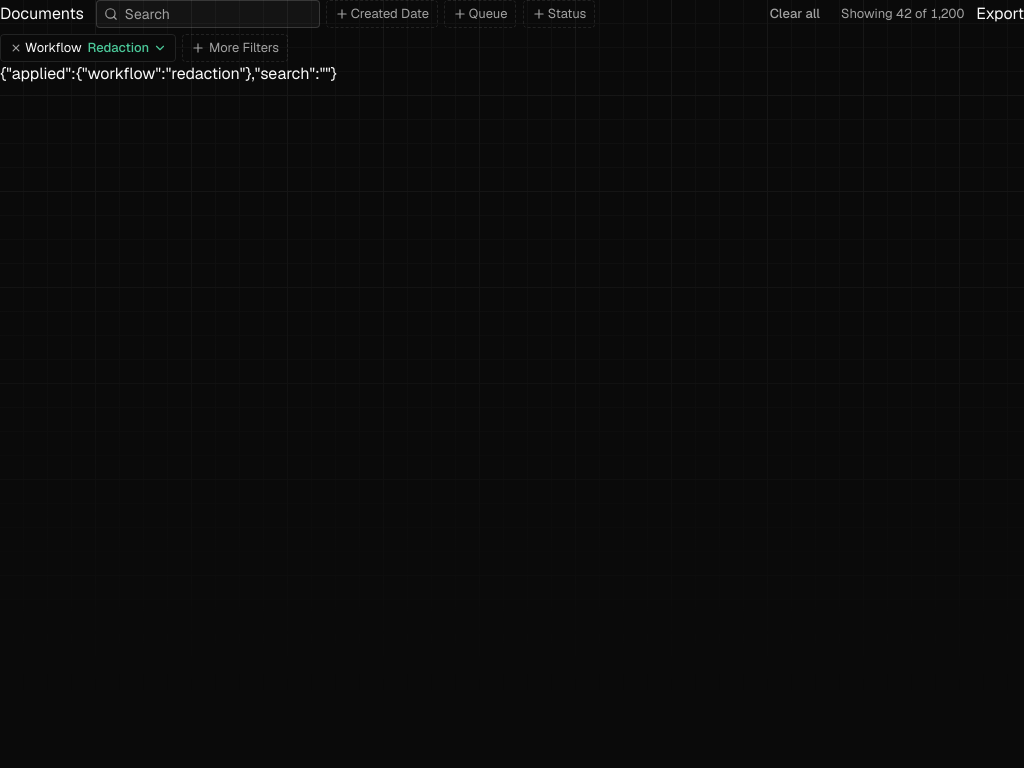
Test case: FilterBar layout (SPEC §4) › [T] more-tier filters render as chips only while applied
Expected: the button with aria-label "Workflow filter:" is shown, x1=25 y1=35 x2=175 y2=61
Click the button named "Remove Workflow filter" at (13, 48), box x1=1 y1=35 x2=25 y2=61
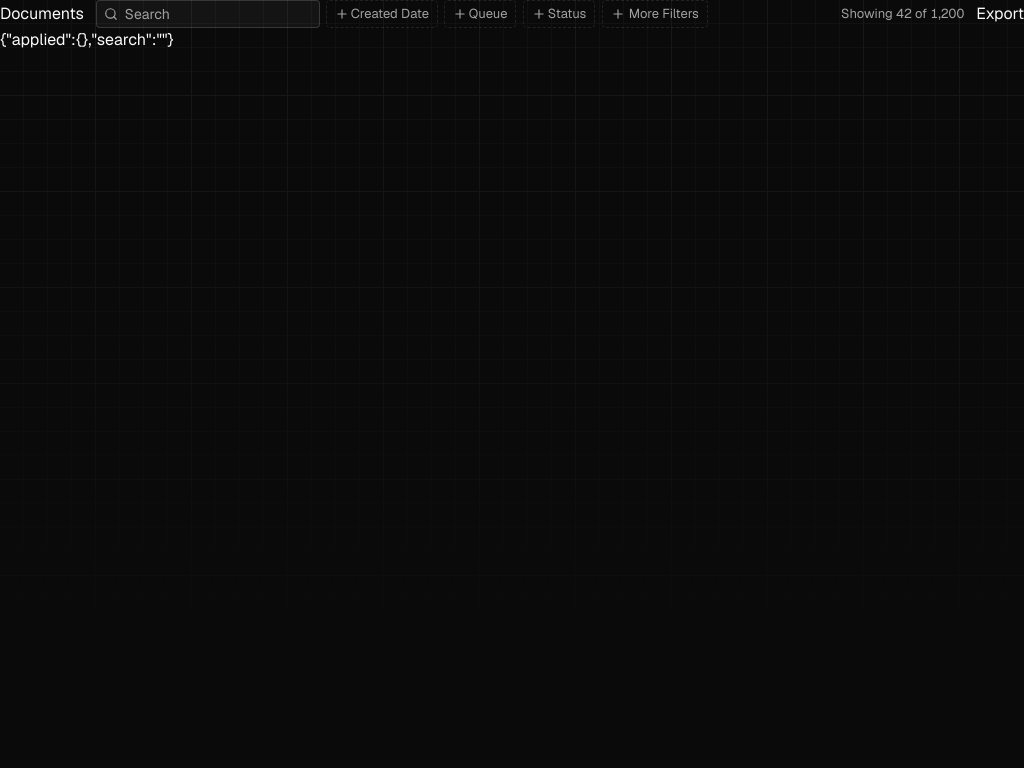
Note: Back in the menu.
Click the button "More Filters" at (655, 14), box x1=602 y1=0 x2=708 y2=28
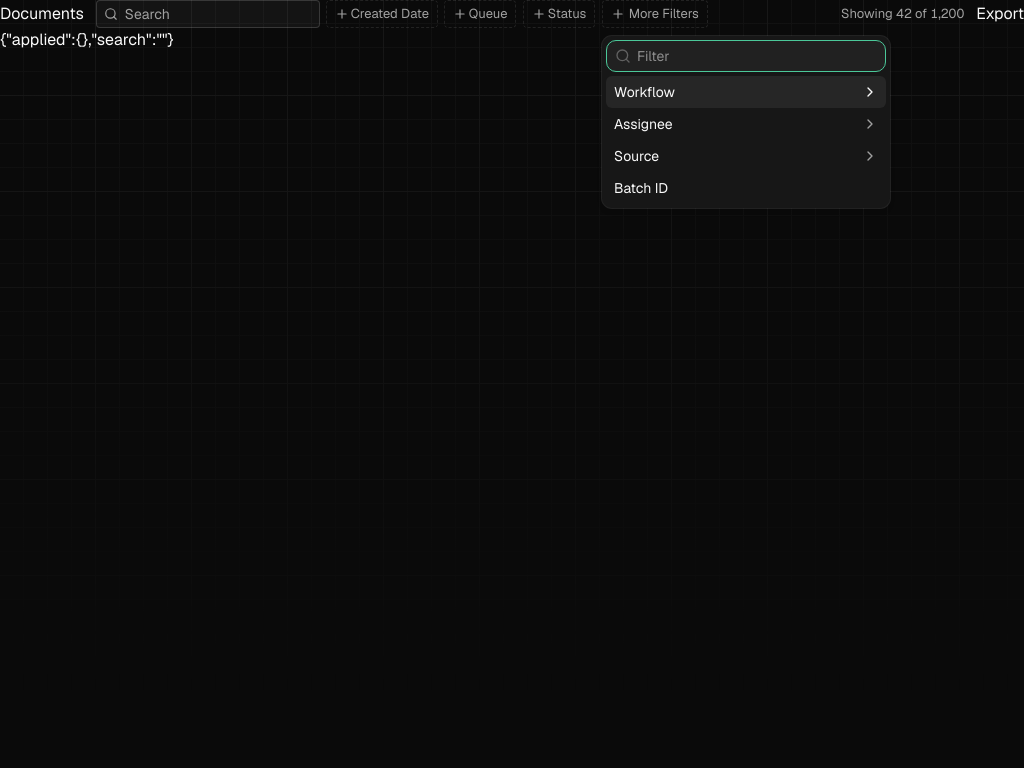
Now the option "Workflow" is shown, box x1=606 y1=76 x2=886 y2=108
